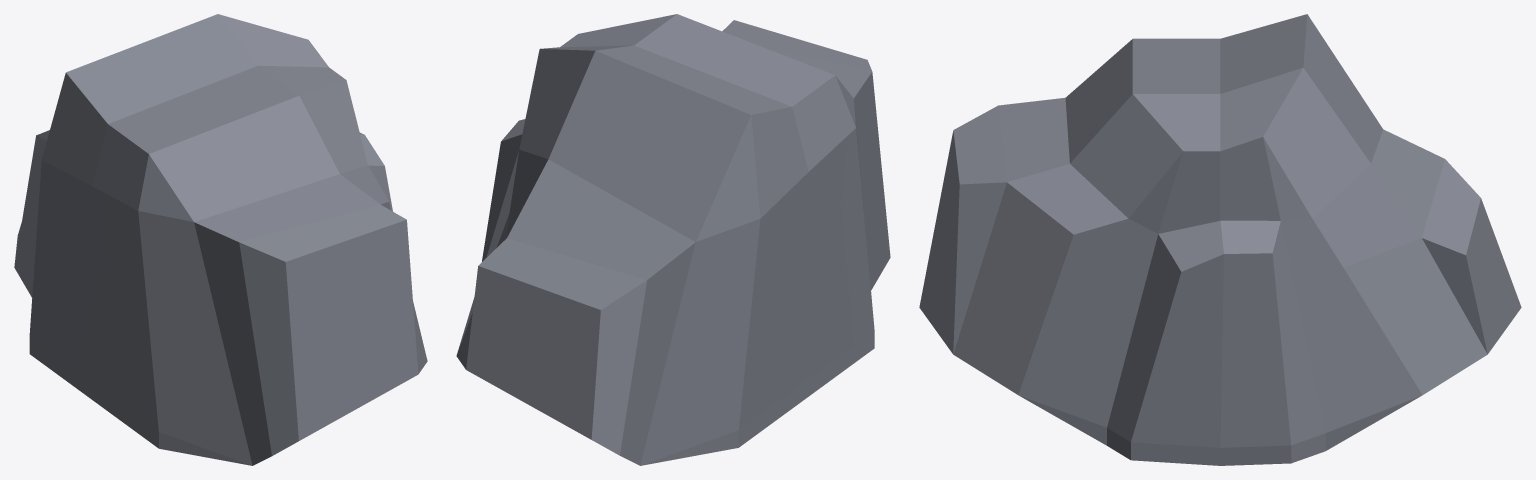
Rendered from rock_4.glb.
The picture shows the model from 3 angles, left to right: view 1: azimuth 30°, elevation 25°; view 2: azimuth 150°, elevation 25°; view 3: azimuth 270°, elevation 25°; orthographic projection. The views are drawn at different scales.
Parts seen in each view (by area): view 1: rock_4; view 2: rock_4; view 3: rock_4.
Part boxes in pixels (x1,y1,x2,y2): rock_4: (14, 14, 427, 465); rock_4: (456, 14, 890, 465); rock_4: (919, 14, 1521, 465).
Size of the model in its own units: 0.7436 by 0.7836 by 1.25.
1 material, 1 textured.
